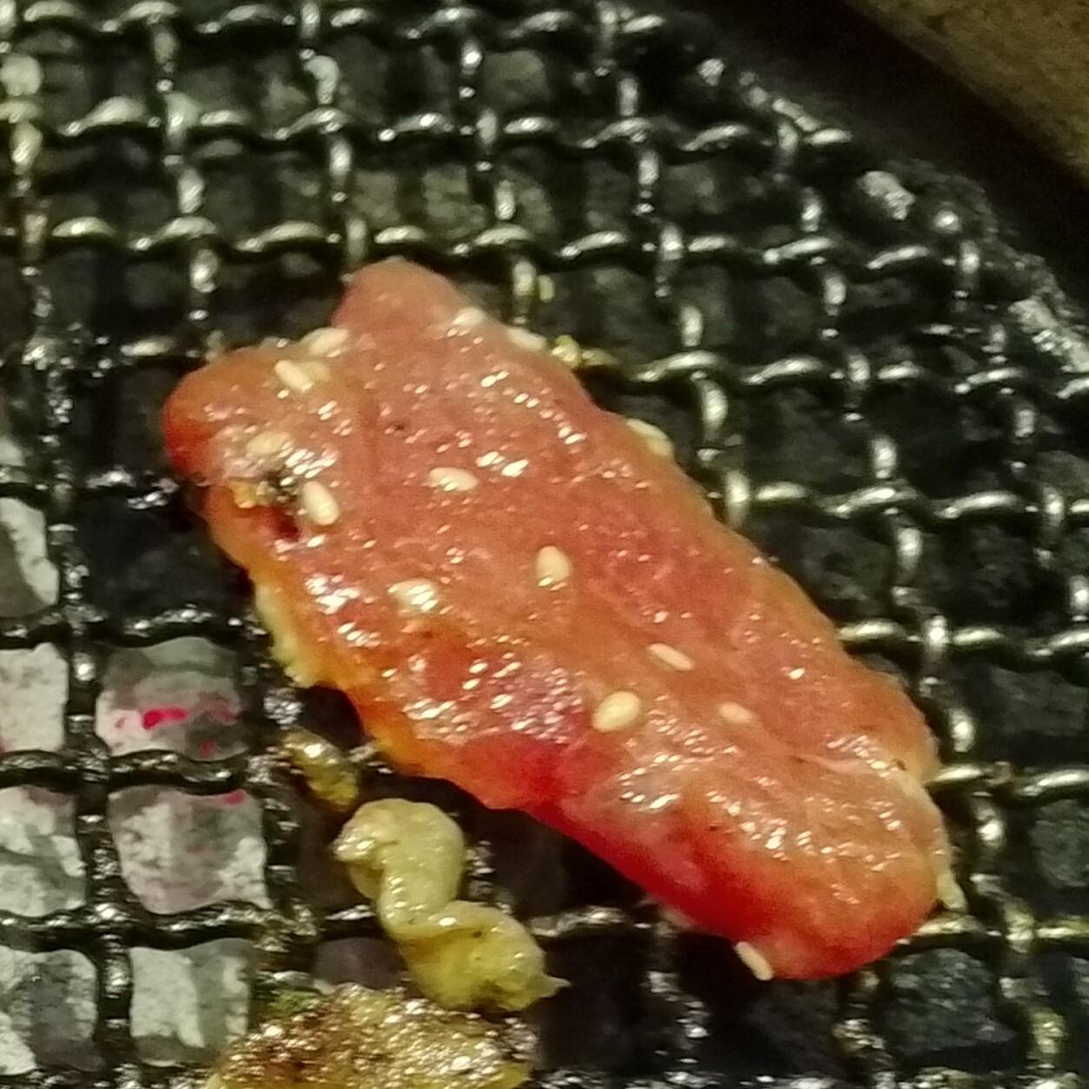Overcooked: (179, 989, 533, 1088)
Undercooked: (159, 260, 960, 987)
